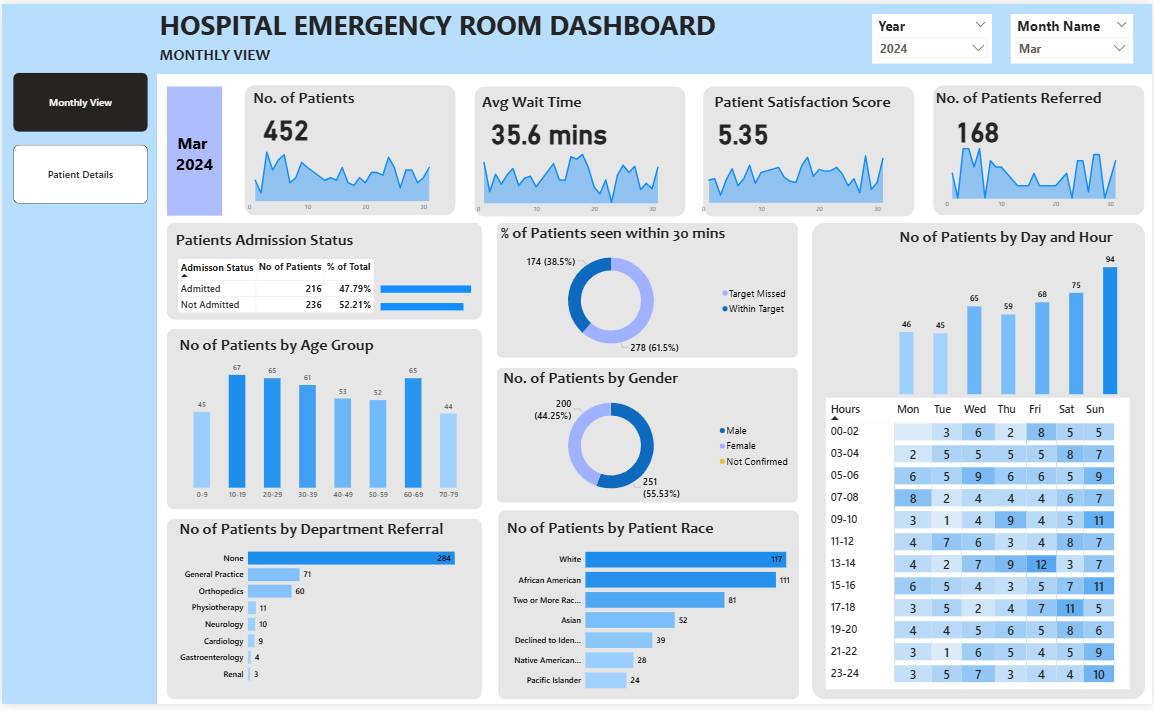

Layout of this report page (visuals, bound fields, positions):
{"tool":"powerbi","page":{"name":"Monthly View","canvas":[2300,1400],"ordinal":0},"visuals":[{"type":"group","id":"g1","title":"Group 3","box":[936.5,164.2,436,261],"z":0},{"type":"shape","box":[0,0,310,1400],"z":1000},{"type":"shape","box":[310.3,0,1990.7,140],"z":2000},{"type":"textbox","box":[310.3,0,1299.1,115.7],"z":3000},{"type":"textbox","box":[310.3,76.3,299.8,63.1],"z":4000},{"type":"slicer","fields":{"Values":["Date Table.Year"]},"box":[1740.2,19.8,240.1,99],"z":5000},{"type":"slicer","fields":{"Values":["Date Table.Month Name"]},"box":[2017.4,19.8,245.1,99],"z":6000},{"type":"shape","box":[485,161.5,422,260],"z":6000,"group":"g3"},{"type":"card","fields":{"Values":["Min(Date Table.Month & Year)"]},"box":[331,164.2,110.3,258.4],"z":7000},{"type":"card","fields":{"Values":["Hospital ER_Data.No of Patients"]},"box":[479,161.5,176,166],"z":8000,"group":"g3"},{"type":"shape","box":[1862.3,161.5,422.5,260],"z":8000},{"type":"shape","box":[1402.7,164.2,422,260],"z":8000,"group":"g4"},{"type":"textbox","box":[955.4,169.5,236.8,59.2],"z":9000},{"type":"textbox","box":[1862.3,161.5,357.9,110.3],"z":10000},{"type":"shape","box":[943,164.2,422,260],"z":10000,"group":"g1"},{"type":"textbox","box":[1421,170.4,368.7,129.2],"z":10000,"group":"g4"},{"type":"card","fields":{"Values":["Hospital ER_Data.Satisfaction Score"]},"box":[1351,200,263.7,110.3],"z":11000,"group":"g4"},{"type":"card","fields":{"Values":["Hospital ER_Data.No.of Patient Referred"]},"box":[1816.6,207.2,266.4,83.4],"z":11000},{"type":"textbox","box":[497,161.5,238,58],"z":12000,"group":"g3"},{"type":"areaChart","fields":{"Category":["Date Table.Date.Variation.Date Hierarchy.Day"],"Y":["Hospital ER_Data.No.of Patient Referred"]},"box":[1873.8,274.8,410.9,143.6],"z":12000},{"type":"areaChart","fields":{"Category":["Date Table.Date.Variation.Date Hierarchy.Day"],"Y":["Hospital ER_Data.Satisfaction Score"]},"box":[1388.7,280.7,436,145.3],"z":12000,"group":"g4"},{"type":"shape","box":[331,437.4,629.7,193.8],"z":13000},{"type":"areaChart","fields":{"Category":["Date Table.Date.Variation.Date Hierarchy.Day"],"Y":["Hospital ER_Data.No of Patients"]},"box":[479,275.5,436,146],"z":14000,"group":"g3"},{"type":"shape","box":[331,650.7,629.7,360.6],"z":14000},{"type":"clusteredColumnChart","fields":{"Category":["Hospital ER_Data.Age Group"],"Y":["Hospital ER_Data.No of Patients"]},"box":[349.9,662,594.8,339.1],"z":15000},{"type":"card","fields":{"Values":["Hospital ER_Data.Avg Wait Time"]},"box":[960.7,170.4,263.7,166.9],"z":16000,"group":"g1"},{"type":"group","id":"g2","title":"Group 1","box":[341.8,446.7,651.3,193.8],"z":16000},{"type":"areaChart","fields":{"Category":["Date Table.Date.Variation.Date Hierarchy.Day"],"Y":["Avg(Hospital ER_Data.Patient Waittime)"]},"box":[936.5,280.7,436,145.3],"z":17000,"group":"g1"},{"type":"shape","box":[331,1030.7,629.7,360.6],"z":17000},{"type":"clusteredBarChart","fields":{"Category":["Hospital ER_Data.Department Referral"],"Y":["Hospital ER_Data.No of Patients"]},"box":[349.9,1030.7,594.8,341.8],"z":18000},{"type":"group","id":"g3","title":"Group 2","box":[479,161.5,436,258.4],"z":19000},{"type":"group","id":"g4","title":"Group 4","box":[1351,164.2,473.7,261],"z":20000},{"type":"shape","box":[990.1,438.1,601.5,269.8],"z":21000},{"type":"donutChart","title":"% of Patients seen within 30 mins","fields":{"Category":["Hospital ER_Data.Wait Time Status"],"Y":["Hospital ER_Data.No of Patients"]},"box":[992.6,438.1,589.1,272.3],"z":22000},{"type":"shape","box":[990.1,727.8,601.5,269.8],"z":23000},{"type":"donutChart","title":"No. of Patients by Gender","fields":{"Y":["Hospital ER_Data.No of Patients"],"Category":["Hospital ER_Data.Patient Gender"]},"box":[997.6,727.8,589.1,272.3],"z":24000},{"type":"pivotTable","fields":{"Rows":["Hospital ER_Data.Admisson Status"],"Values":["Hospital ER_Data.No of Patients1","Hospital ER_Data.No of Patients"]},"box":[347.8,504.7,404,134],"z":25000,"group":"g2"},{"type":"shape","box":[992.6,1012.4,601.5,378.7],"z":25000},{"type":"textbox","box":[341.8,446.7,438,58],"z":26000,"group":"g2"},{"type":"clusteredBarChart","fields":{"Y":["Hospital ER_Data.No of Patients"],"Category":["Hospital ER_Data.Patient Race"]},"box":[1004.6,1027.7,596.9,363.1],"z":26000},{"type":"shape","box":[1618.9,438.1,665.9,953],"z":27000},{"type":"barChart","fields":{"Category":["Hospital ER_Data.Admisson Status"],"Y":["Hospital ER_Data.No of Patients"]},"box":[751.8,532.7,240,106],"z":27000,"group":"g2"},{"type":"pivotTable","fields":{"Rows":["Hospital ER_Data.Wait Time Interval"],"Columns":["Date Table.Day Name"],"Values":["Hospital ER_Data.No of Patients"]},"box":[1648.3,788.3,608.3,583.3],"z":28000},{"type":"columnChart","title":"No of Patients by Day and Hour","fields":{"Category":["Date Table.Day Name"],"Y":["Hospital ER_Data.No of Patients"]},"box":[1789.7,445.6,448,341.6],"z":29000},{"type":"pageNavigator","box":[22.3,138.6,269.8,262.4],"z":30000}]}

Visuals, with their boxes in screenshot pixels (x1, y1, x2, y2), scaled from the page's 2300x1400 canvas onto the 1154x711 screenshot:
"Group 3" group: 470 83 689 216
shape: 0 0 156 710
shape: 156 0 1153 71
textbox: 156 0 807 59
textbox: 156 39 306 71
slicer - Date Table.Year: 873 10 994 60
slicer - Date Table.Month Name: 1012 10 1135 60
shape: 243 82 455 214
card - Min(Date Table.Month & Year): 166 83 221 215
card - Hospital ER_Data.No of Patients: 240 82 329 166
shape: 934 82 1146 214
shape: 704 83 916 215
textbox: 479 86 598 116
textbox: 934 82 1114 138
shape: 473 83 685 215
textbox: 713 87 898 152
card - Hospital ER_Data.Satisfaction Score: 678 102 810 158
card - Hospital ER_Data.No.of Patient Referred: 911 105 1045 148
textbox: 249 82 369 111
areaChart - Date Table.Date.Variation.Date Hierarchy.Day x Hospital ER_Data.No.of Patient Referred: 940 140 1146 212
areaChart - Date Table.Date.Variation.Date Hierarchy.Day x Hospital ER_Data.Satisfaction Score: 697 143 916 216
shape: 166 222 482 321
areaChart - Date Table.Date.Variation.Date Hierarchy.Day x Hospital ER_Data.No of Patients: 240 140 459 214
shape: 166 330 482 514
clusteredColumnChart - Hospital ER_Data.Age Group x Hospital ER_Data.No of Patients: 176 336 474 508
card - Hospital ER_Data.Avg Wait Time: 482 87 614 171
"Group 1" group: 171 227 498 325
areaChart - Date Table.Date.Variation.Date Hierarchy.Day x Avg(Hospital ER_Data.Patient Waittime): 470 143 689 216
shape: 166 523 482 707
clusteredBarChart - Hospital ER_Data.Department Referral x Hospital ER_Data.No of Patients: 176 523 474 697
"Group 2" group: 240 82 459 213
"Group 4" group: 678 83 916 216
shape: 497 222 799 360
"% of Patients seen within 30 mins" donutChart: 498 222 794 361
shape: 497 370 799 507
"No. of Patients by Gender" donutChart: 501 370 796 508
pivotTable - Hospital ER_Data.Admisson Status x Hospital ER_Data.No of Patients1: 175 256 377 324
shape: 498 514 800 706
textbox: 171 227 391 256
clusteredBarChart - Hospital ER_Data.No of Patients x Hospital ER_Data.Patient Race: 504 522 804 706
shape: 812 222 1146 706
barChart - Hospital ER_Data.Admisson Status x Hospital ER_Data.No of Patients: 377 271 498 324
pivotTable - Hospital ER_Data.Wait Time Interval x Date Table.Day Name: 827 400 1132 697
"No of Patients by Day and Hour" columnChart: 898 226 1123 400
pageNavigator: 11 70 147 204
